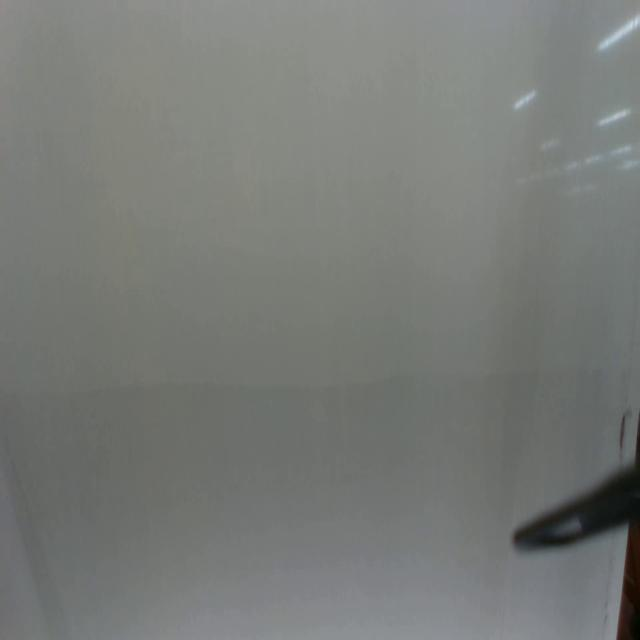hole: (618, 410, 630, 457)
